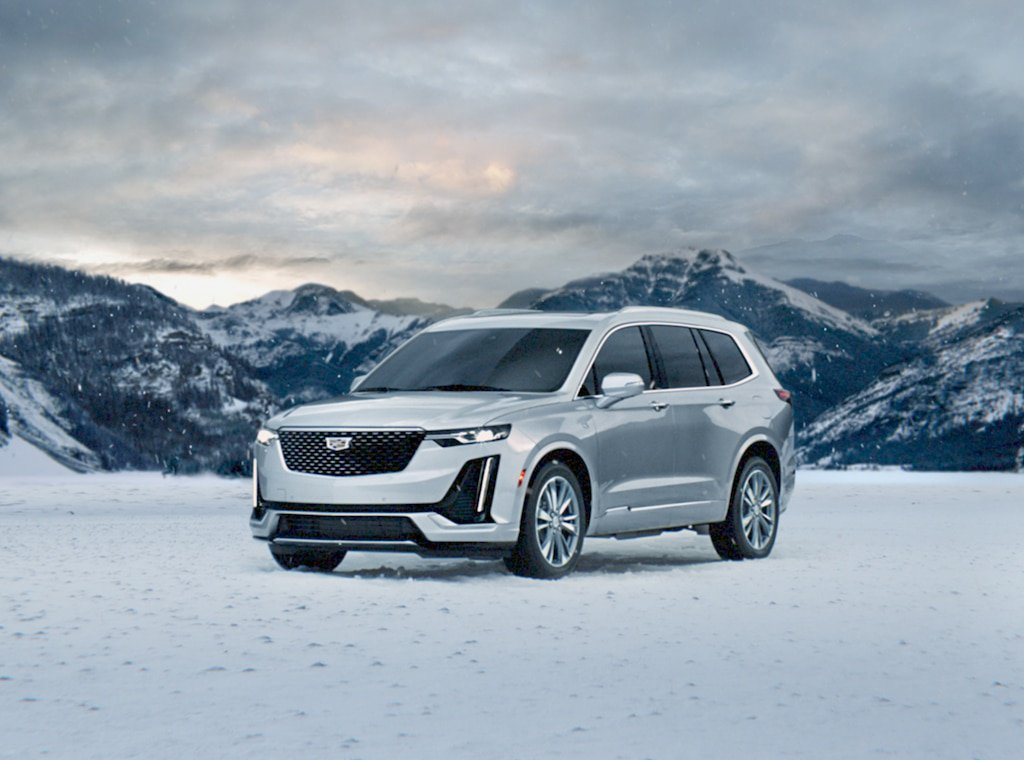car: (234, 302, 797, 575)
